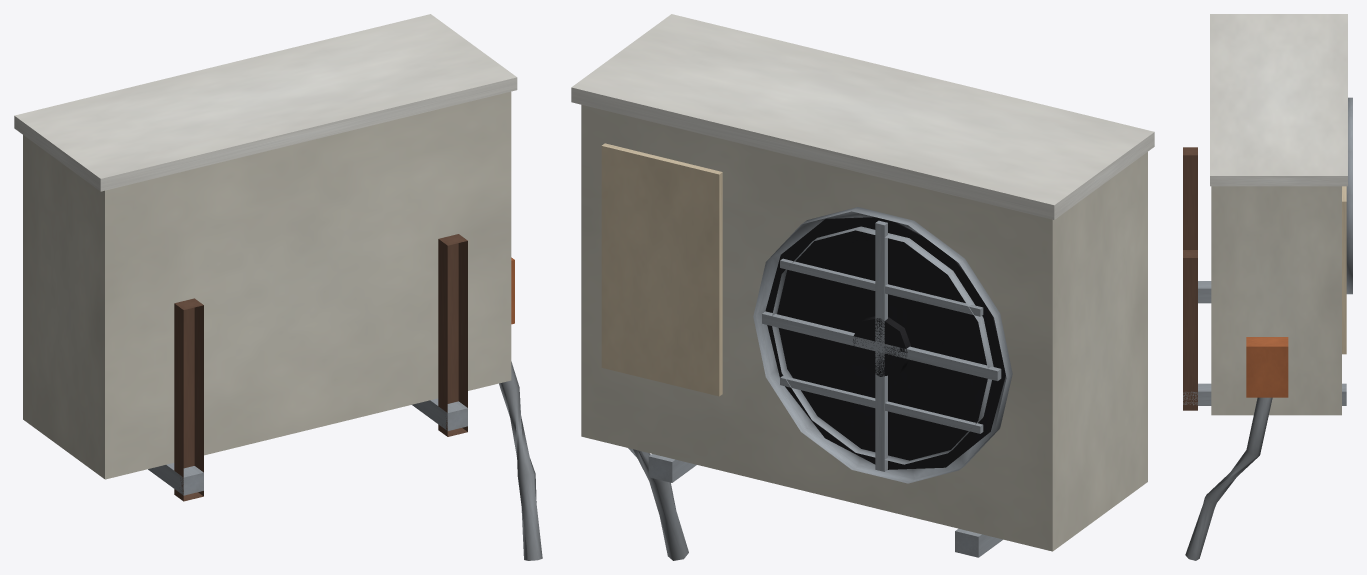
The model's file is FK_SplitAC.fbx.
3 renders of one model, left to right at view 1: azimuth 30°, elevation 25°; view 2: azimuth 150°, elevation 25°; view 3: azimuth 270°, elevation 25°, orthographic. The views are drawn at different scales.
Visible parts, largest first — view 1: FK_SplitAC; view 2: FK_SplitAC; view 3: FK_SplitAC.
Boxes of the visible parts, box(x1,y1,x2,y2) form: FK_SplitAC: box(14, 14, 542, 560); FK_SplitAC: box(571, 14, 1154, 560); FK_SplitAC: box(1183, 14, 1352, 560).
Size of the model in its own units: 0.8738 by 0.8984 by 0.363.
1 material, 1 textured.
